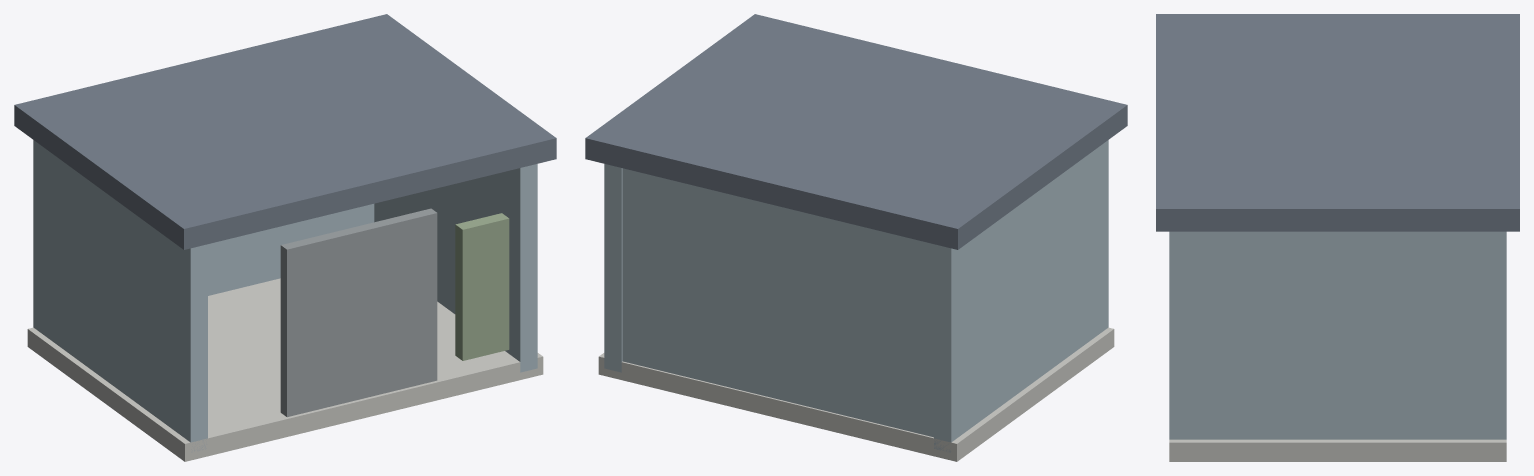
Rendered from industrial-warehouse.glb.
3 renders of one model, left to right at view 1: azimuth 30°, elevation 25°; view 2: azimuth 150°, elevation 25°; view 3: azimuth 270°, elevation 25°, orthographic. The views are drawn at different scales.
Parts seen in each view (by area): view 1: Entrepot industriel; view 2: Entrepot industriel; view 3: Entrepot industriel.
Boxes of the visible parts, <box> form: Entrepot industriel: <box>14,14,556,461</box>; Entrepot industriel: <box>585,14,1127,461</box>; Entrepot industriel: <box>1156,14,1519,461</box>.
Bounding box in the file's own units: 5.2 × 3.19 × 4.1.
